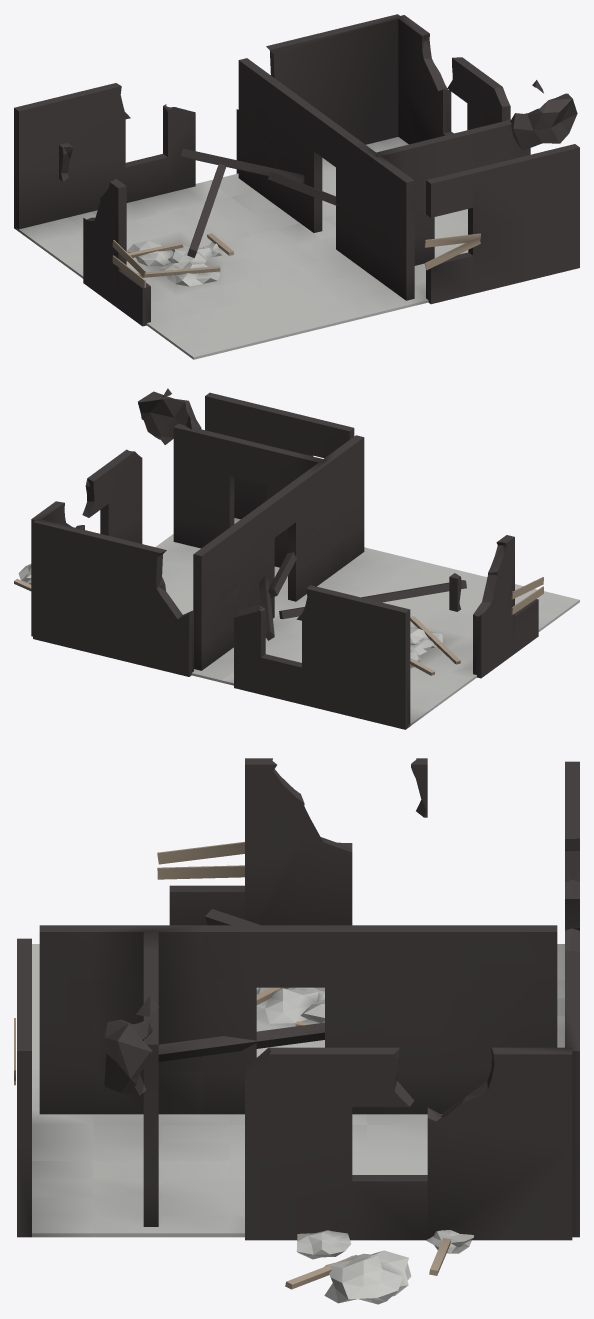
The model's file is casa_r4.glb.
The picture shows the model from 3 angles, top to bottom: view 1: azimuth 30°, elevation 25°; view 2: azimuth 150°, elevation 25°; view 3: azimuth 270°, elevation 25°; orthographic projection. The views are drawn at different scales.
Parts seen in each view (by area): view 1: ext, dentro, detalhe, longe; view 2: ext, dentro, detalhe, longe; view 3: dentro, ext, detalhe.
Boxes of the visible parts, box(x1,y1,x2,y2) form: ext: box(14, 14, 579, 326); dentro: box(16, 58, 530, 359); detalhe: box(126, 148, 336, 286); longe: box(187, 163, 226, 257); ext: box(31, 388, 543, 729); dentro: box(155, 423, 579, 727); detalhe: box(14, 552, 460, 675); longe: box(279, 580, 466, 619); dentro: box(32, 925, 564, 1237); ext: box(14, 758, 579, 1240); detalhe: box(158, 987, 473, 1304).
Size of what is drawn, in the model's own units: 12.36 by 4.2 by 8.27.
